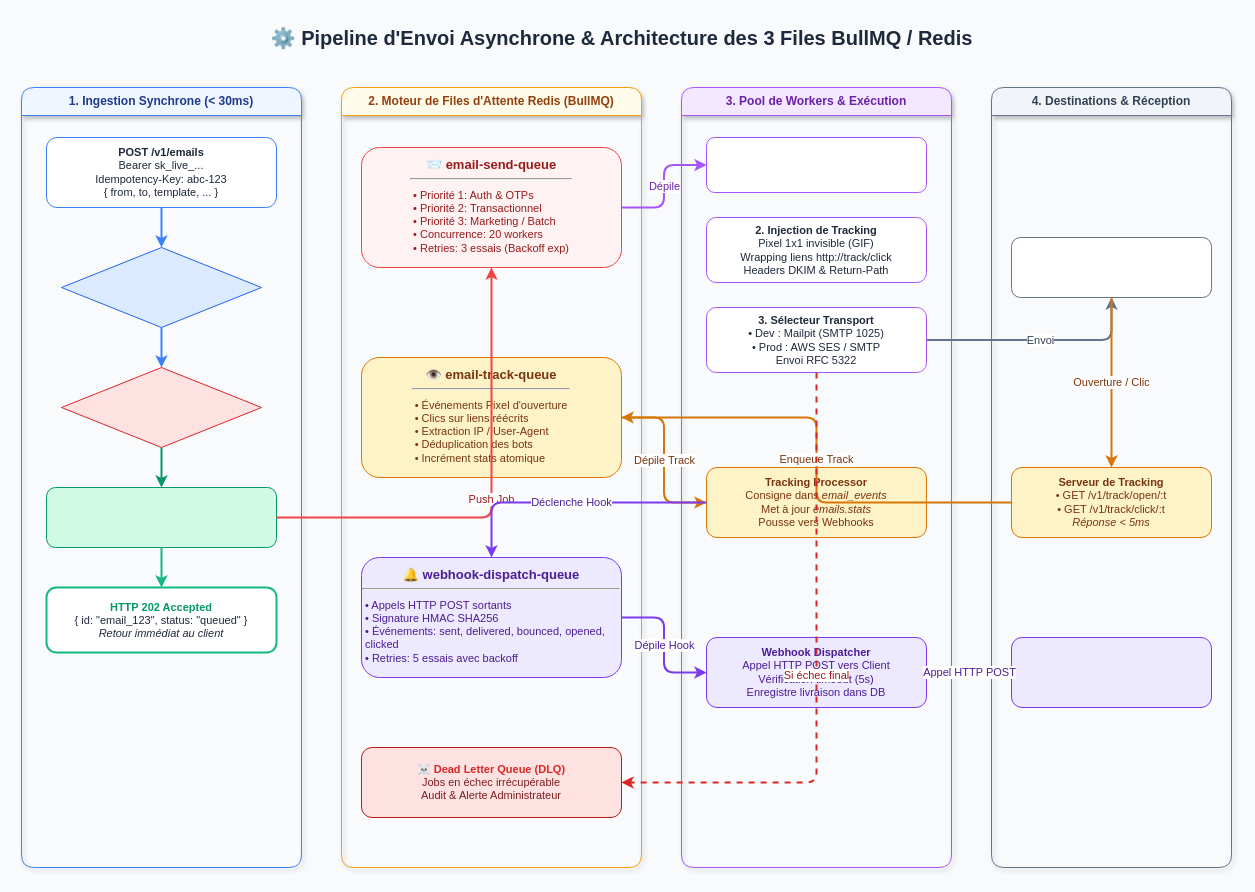
This 1255x892 diagram has some shape labels left out. Each missing label, with the centre of its shape:
1. Compilation Template Handlebars + Variables Minification HTML: point (816, 164)
Boîtes de Réception Gmail, Outlook, Mailpit Email reçu & affiché: point (1111, 267)
Contrôle Liste Noire (O(1)) Vérifie dans Suppressions. Si trouvé: Rejet immédiat: point (161, 407)
Garde d'Authentification Hash match (Argon2) Check Quota & Permissions: point (161, 287)
Persistance Initiale MongoDB emails statut: "queued": point (161, 517)
Serveurs Clients https://client.com/webhook Reçoit le JSON d'alerte: point (1111, 672)
